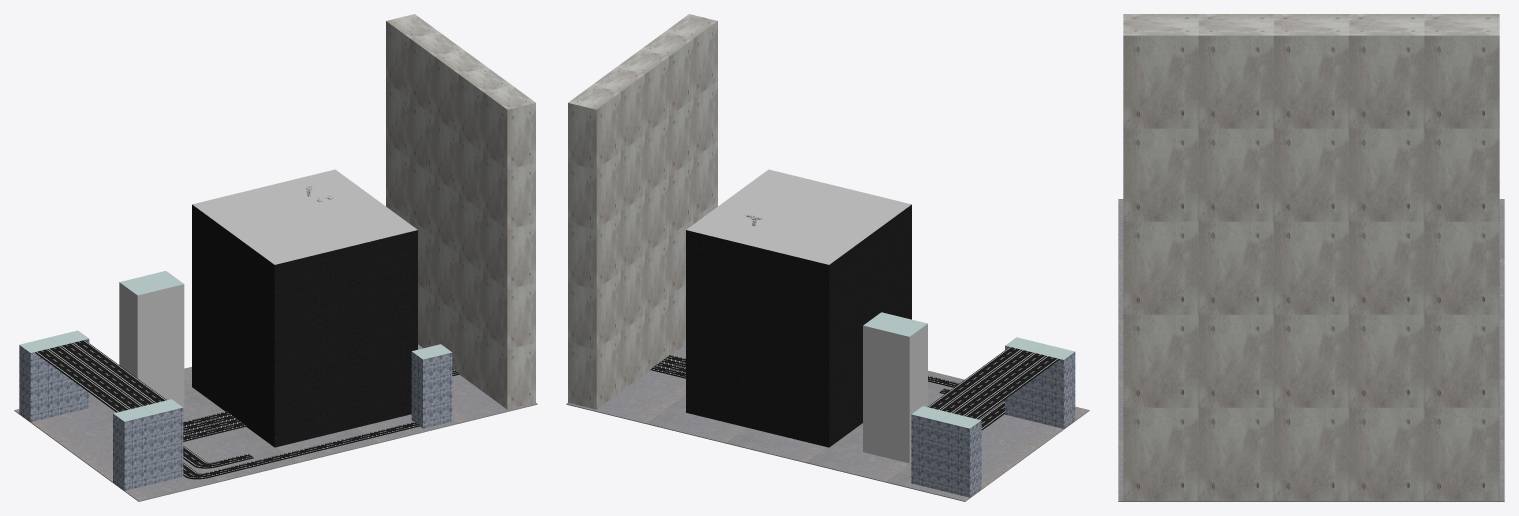
File: stage_02.fbx
3 views of the same model, side by side, from view 1: azimuth 30°, elevation 25°; view 2: azimuth 150°, elevation 25°; view 3: azimuth 270°, elevation 25° (orthographic). The views are drawn at different scales.
Parts seen in each view (by area): view 1: Heliport_bill, wall, bill02 (×5), stage_base01_short, bill01; view 2: Heliport_bill, wall, stage_base01_short, bill02 (×4), bill01; view 3: wall, stage_base01_short.
Part boxes in pixels (x1=…): Heliport_bill: x1=192, y1=169, x2=417, y2=447; wall: x1=386, y1=14, x2=535, y2=409; bill02 (×5): x1=19, y1=330, x2=452, y2=490; stage_base01_short: x1=14, y1=344, x2=537, y2=501; bill01: x1=119, y1=271, x2=184, y2=410; Heliport_bill: x1=686, y1=169, x2=911, y2=447; wall: x1=568, y1=14, x2=717, y2=409; stage_base01_short: x1=566, y1=344, x2=1089, y2=501; bill02 (×4): x1=911, y1=337, x2=1075, y2=497; bill01: x1=863, y1=312, x2=927, y2=463; wall: x1=1123, y1=14, x2=1499, y2=500; stage_base01_short: x1=1118, y1=199, x2=1504, y2=501.
Size of the model in its own units: 5567 by 3010 by 4012.
